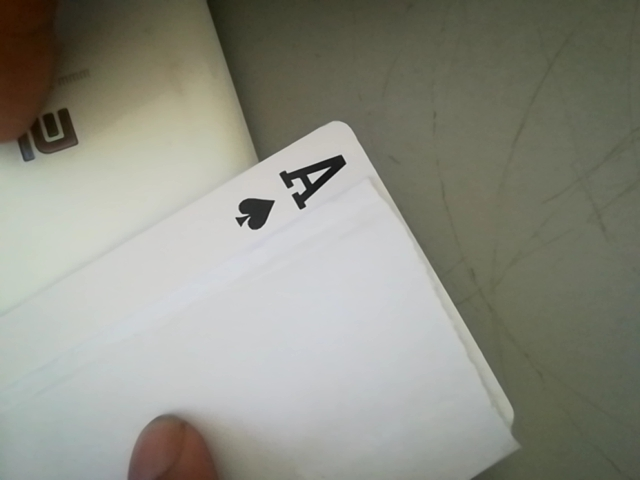ht a: (216, 144, 364, 235)
